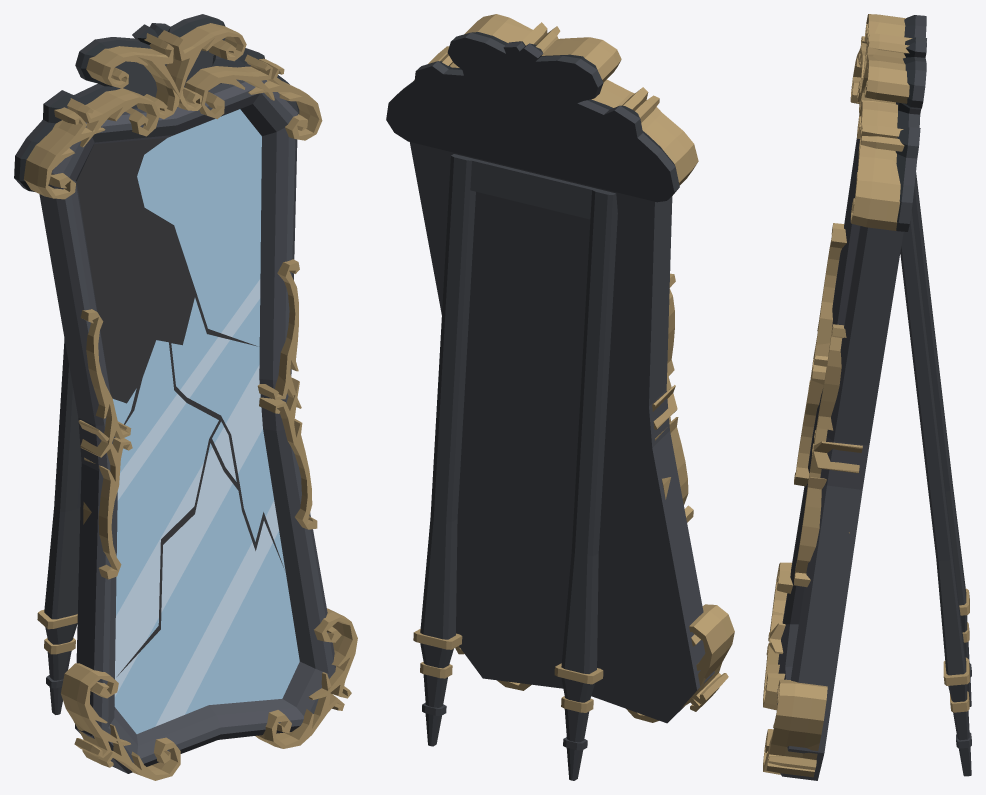
Rendered from WF_LP_HT_Props_MirrorBroken.fbx.
3 views of the same model, side by side, from view 1: azimuth 30°, elevation 25°; view 2: azimuth 150°, elevation 25°; view 3: azimuth 270°, elevation 25° (orthographic). The views are drawn at different scales.
Visible parts, largest first — view 1: WF_LP_HT_Props_MirrorBroken; view 2: WF_LP_HT_Props_MirrorBroken; view 3: WF_LP_HT_Props_MirrorBroken.
Boxes of the visible parts, x1,y1,x2,y2 form: WF_LP_HT_Props_MirrorBroken: (14, 14, 357, 780); WF_LP_HT_Props_MirrorBroken: (386, 14, 734, 780); WF_LP_HT_Props_MirrorBroken: (763, 14, 971, 780).
Bounding box in the file's own units: 1.19 × 2.77 × 0.7421.
